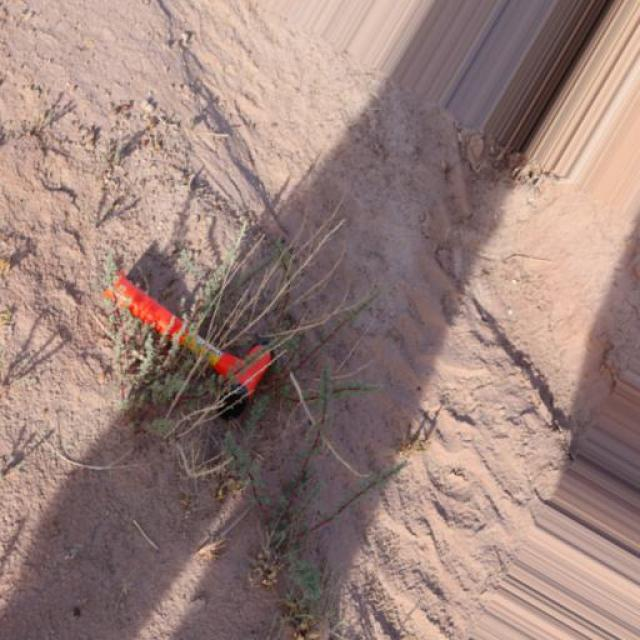mallet: (100, 266, 275, 419)
